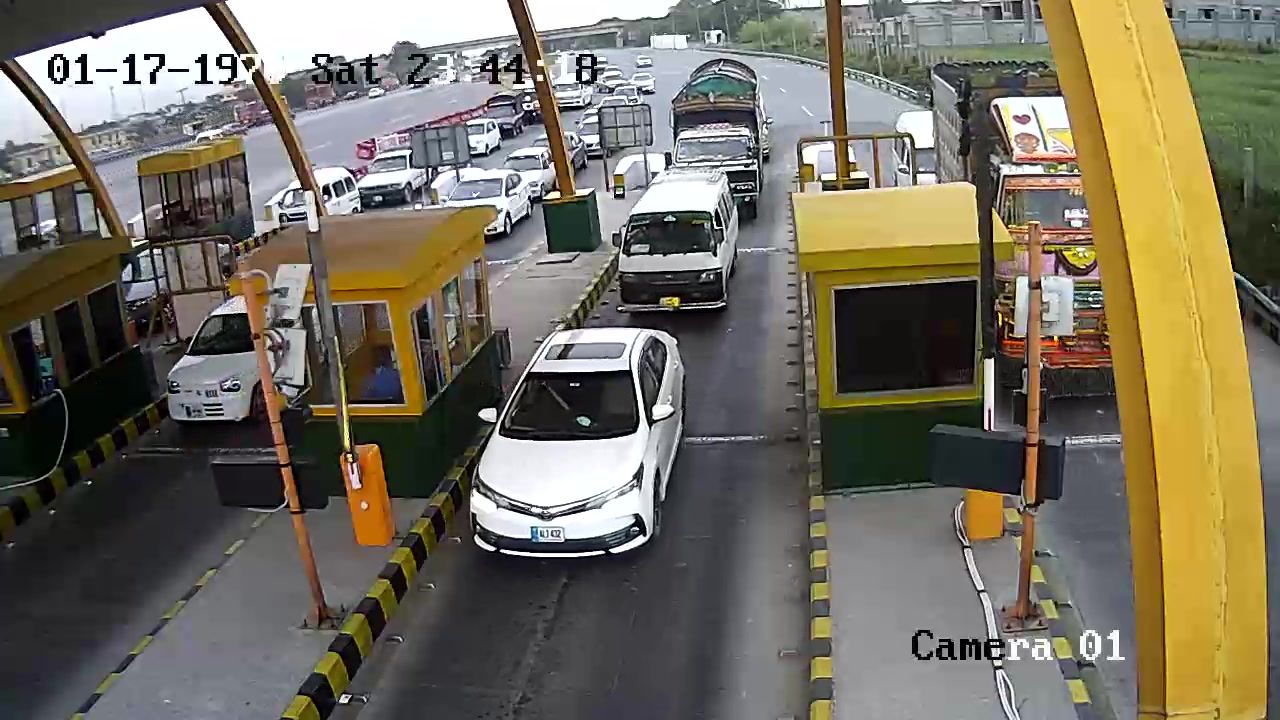F1: (455, 330, 694, 568)
F3: (602, 163, 746, 330)
